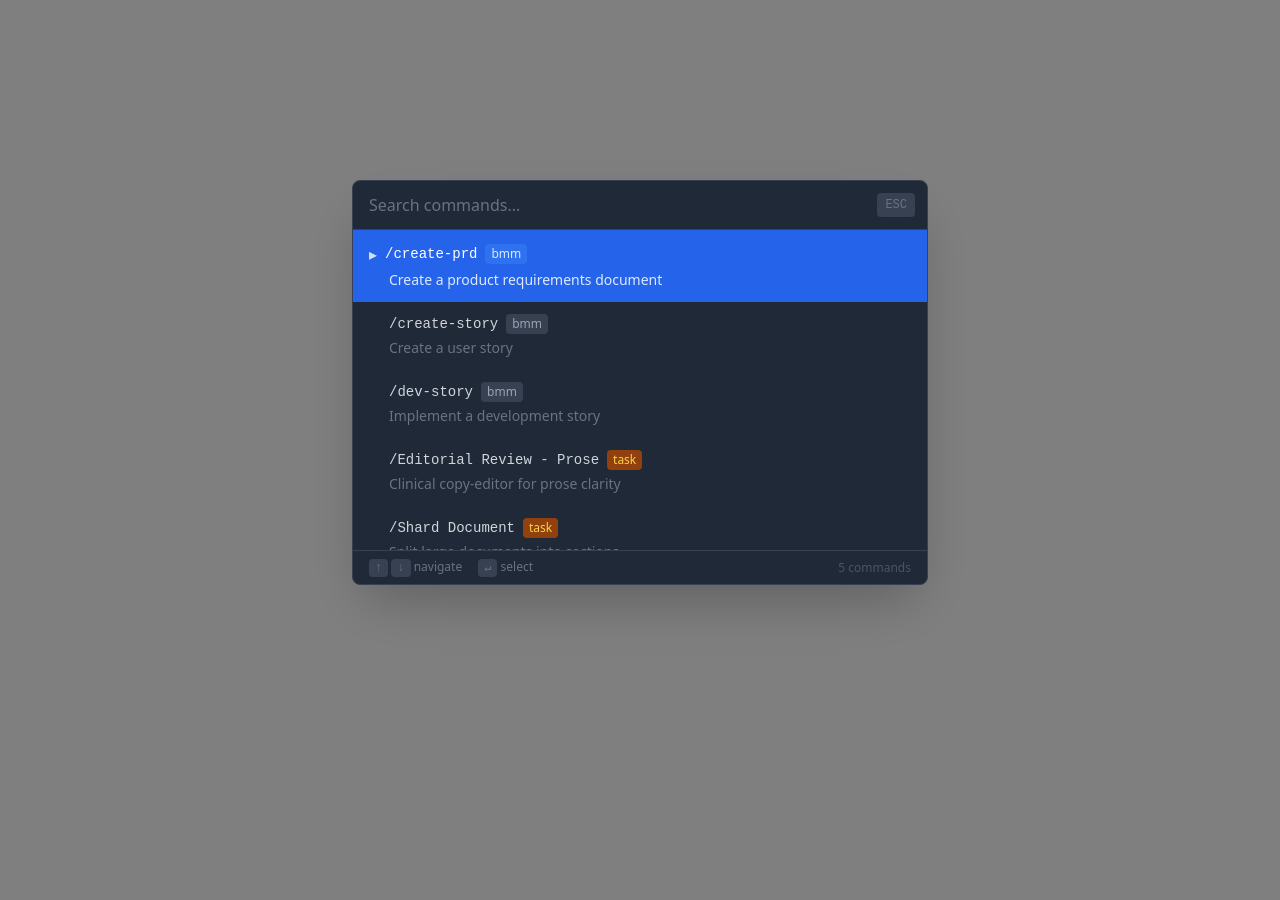
CommandPalette › search filtering › filters workflows by description
Expected: the text "/create-prd" is shown, [385,244,477,264]
Type "product" into the field with placeholder "Search commands..." at {"x": 640, "y": 205}, box [353,181,927,229]
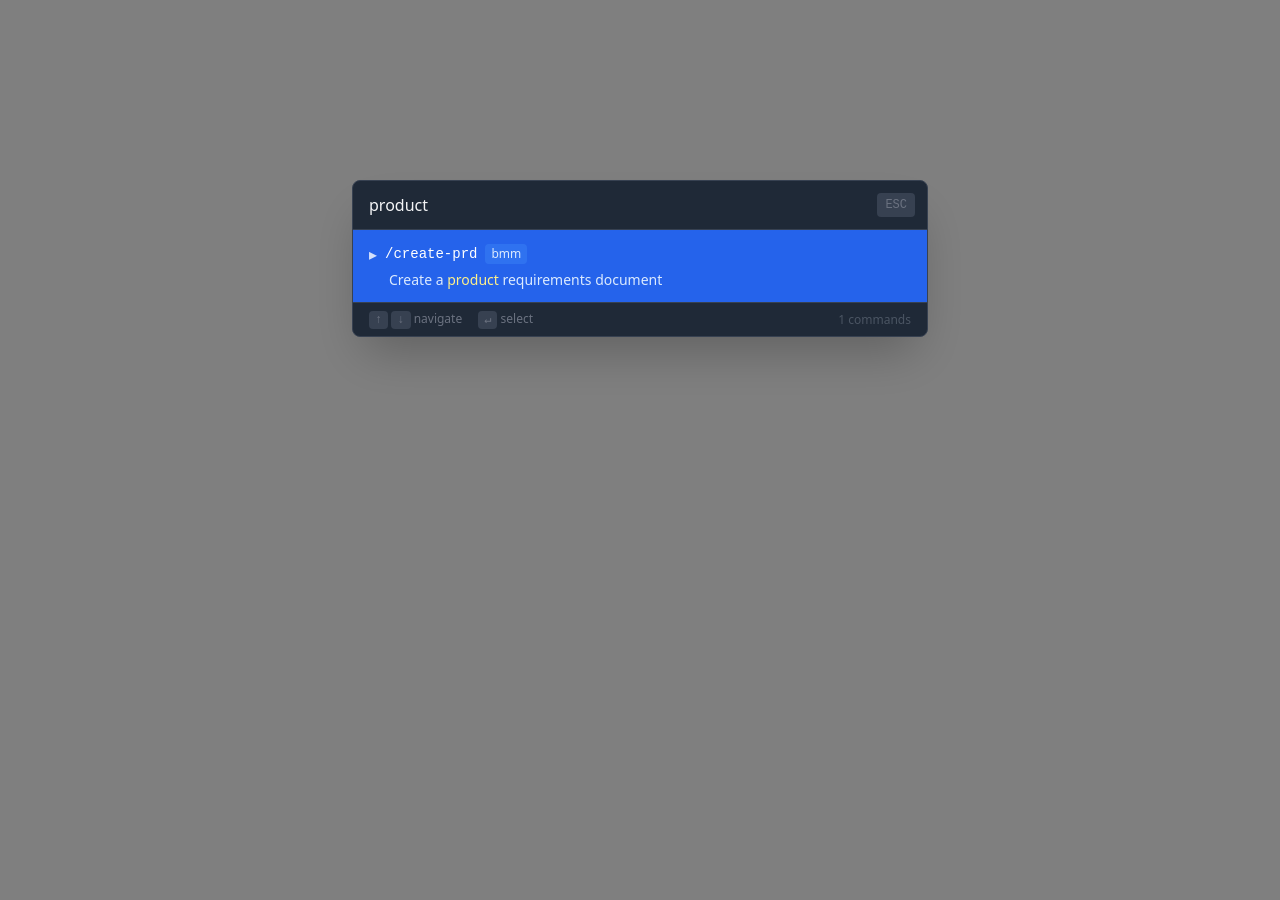
Expected: the text "/create-prd" is shown, [385,244,477,264]
Now the option "/create-story" is gone
